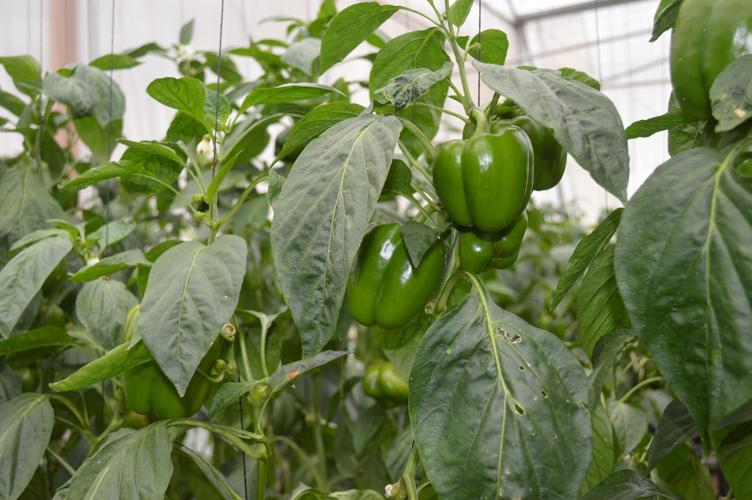BellPepper: (121, 299, 229, 431), (337, 224, 438, 331), (432, 118, 517, 233), (491, 93, 578, 197), (341, 356, 414, 410), (455, 230, 529, 283)
